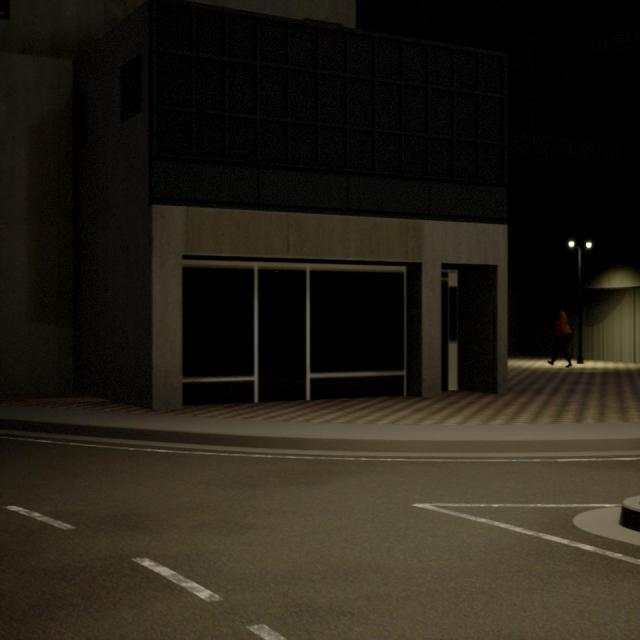Pedestrian: (548, 309, 571, 367)
